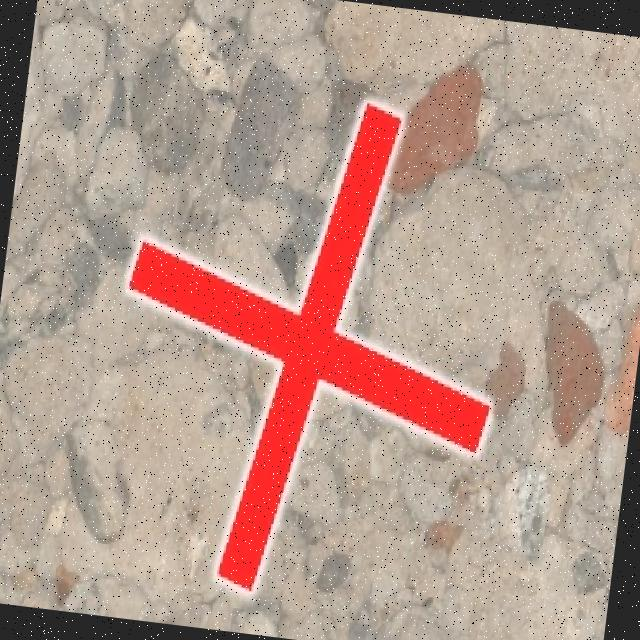x_marker: (93, 75, 523, 615)
